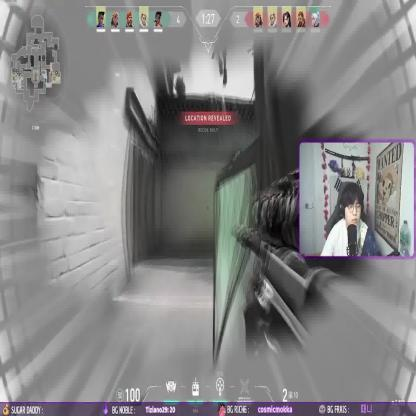enemy: (212, 0, 228, 90)
